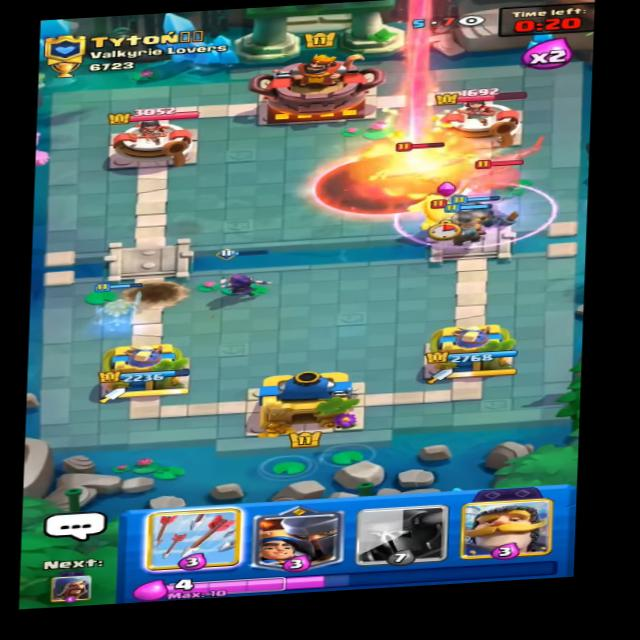knight: (402, 189, 466, 237)
pekka: (462, 142, 548, 189)
phoenix: (364, 141, 477, 190)
